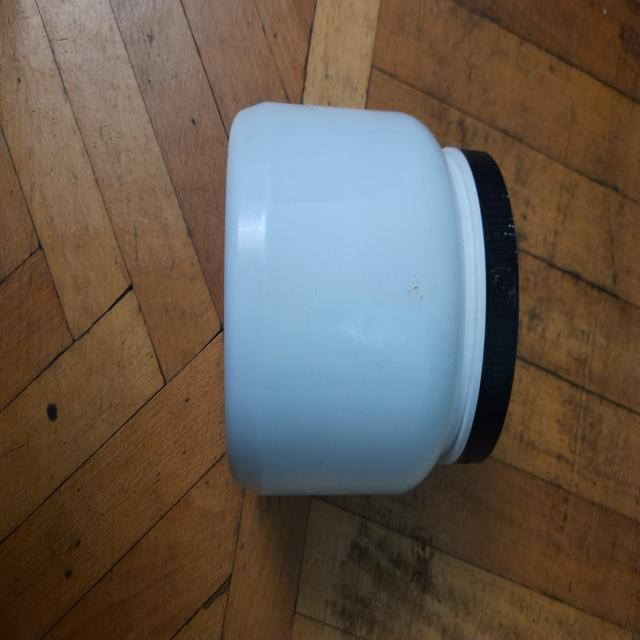plastic: (211, 92, 526, 516)
